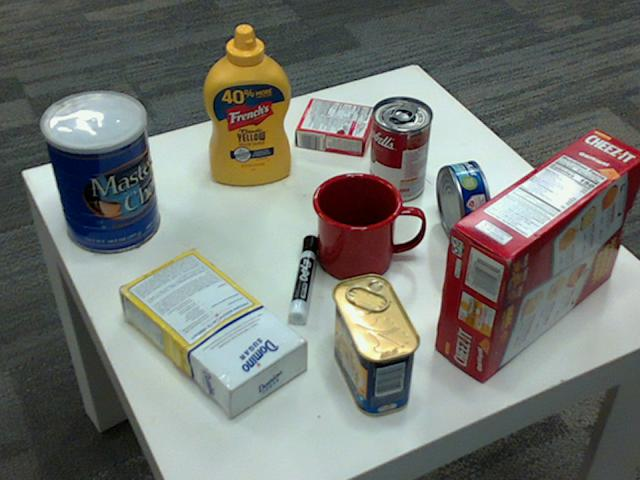cracker_box: (433, 127, 639, 380)
gelatin_box: (297, 97, 377, 154)
large_marker: (286, 236, 318, 329)
master_chef_can: (39, 91, 158, 254)
mug: (311, 170, 421, 279)
mustard_bottle: (203, 25, 290, 184)
potted_meat_can: (330, 274, 421, 415)
sugar_box: (115, 246, 304, 413)
tomato_soup_can: (368, 97, 431, 202)
tuna_fish_can: (435, 160, 489, 240)
